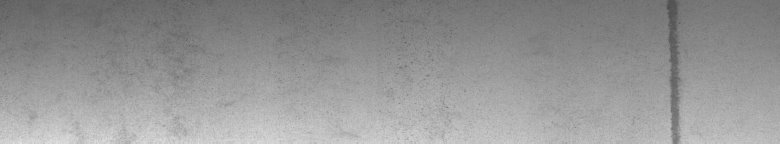hd: (664, 4, 684, 136)
